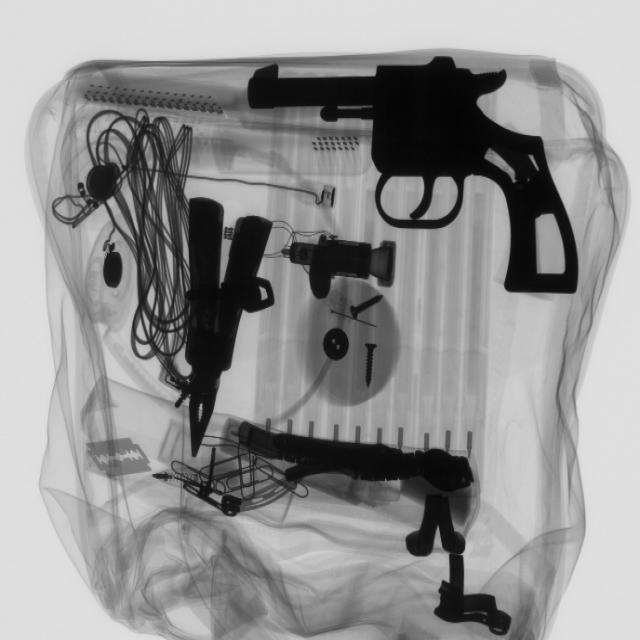BLADE: (83, 431, 157, 484)
GUN: (252, 59, 590, 305)
SCREW: (341, 286, 396, 324), (355, 334, 386, 391)
